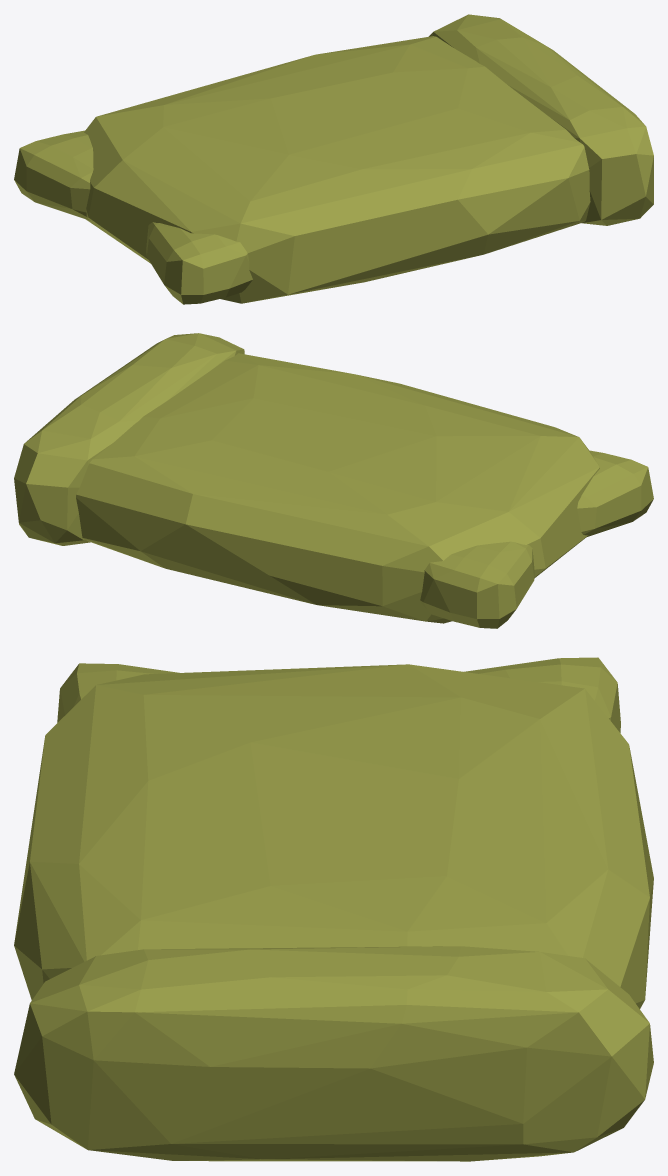
The model's file is sack of grain v2.obj.
The picture shows the model from 3 angles, top to bottom: view 1: azimuth 30°, elevation 25°; view 2: azimuth 150°, elevation 25°; view 3: azimuth 270°, elevation 25°; orthographic projection. The views are drawn at different scales.
Parts seen in each view (by area): view 1: Cube.005_Cube.008; view 2: Cube.005_Cube.008; view 3: Cube.005_Cube.008.
Part boxes in pixels (bbox=[...]): Cube.005_Cube.008: bbox=[14, 14, 653, 304]; Cube.005_Cube.008: bbox=[14, 333, 653, 628]; Cube.005_Cube.008: bbox=[14, 657, 653, 1161].
Size of the model in its own units: 0.5056 by 0.1097 by 0.3427.
